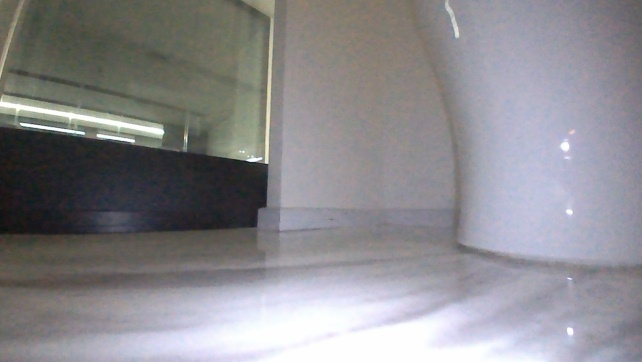toilet: (410, 0, 640, 270)
